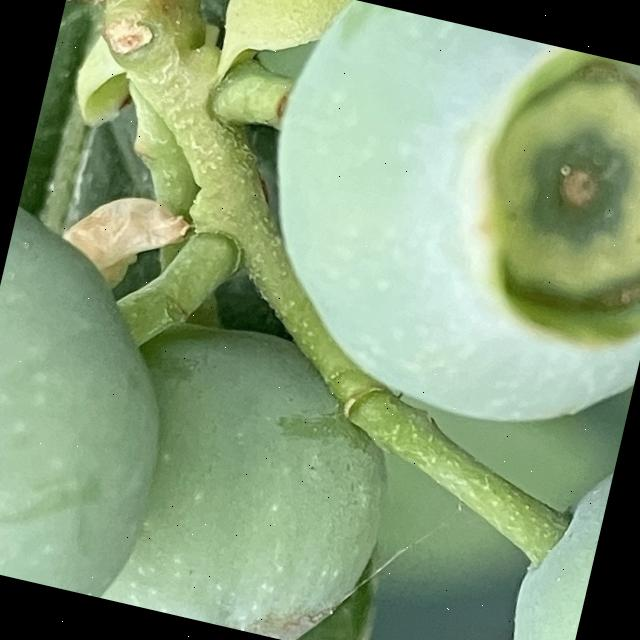Blueberries: (222, 0, 640, 456), (0, 194, 214, 604)
